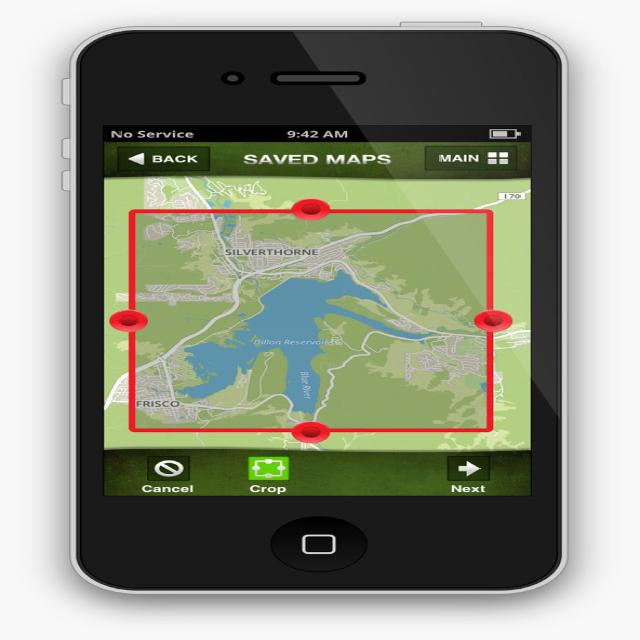Mobile-phone: (38, 20, 581, 629)
